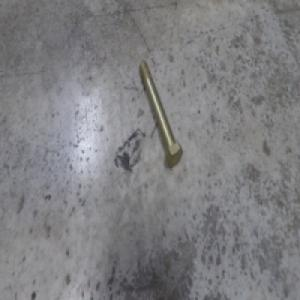Bolt: (139, 59, 183, 170)
